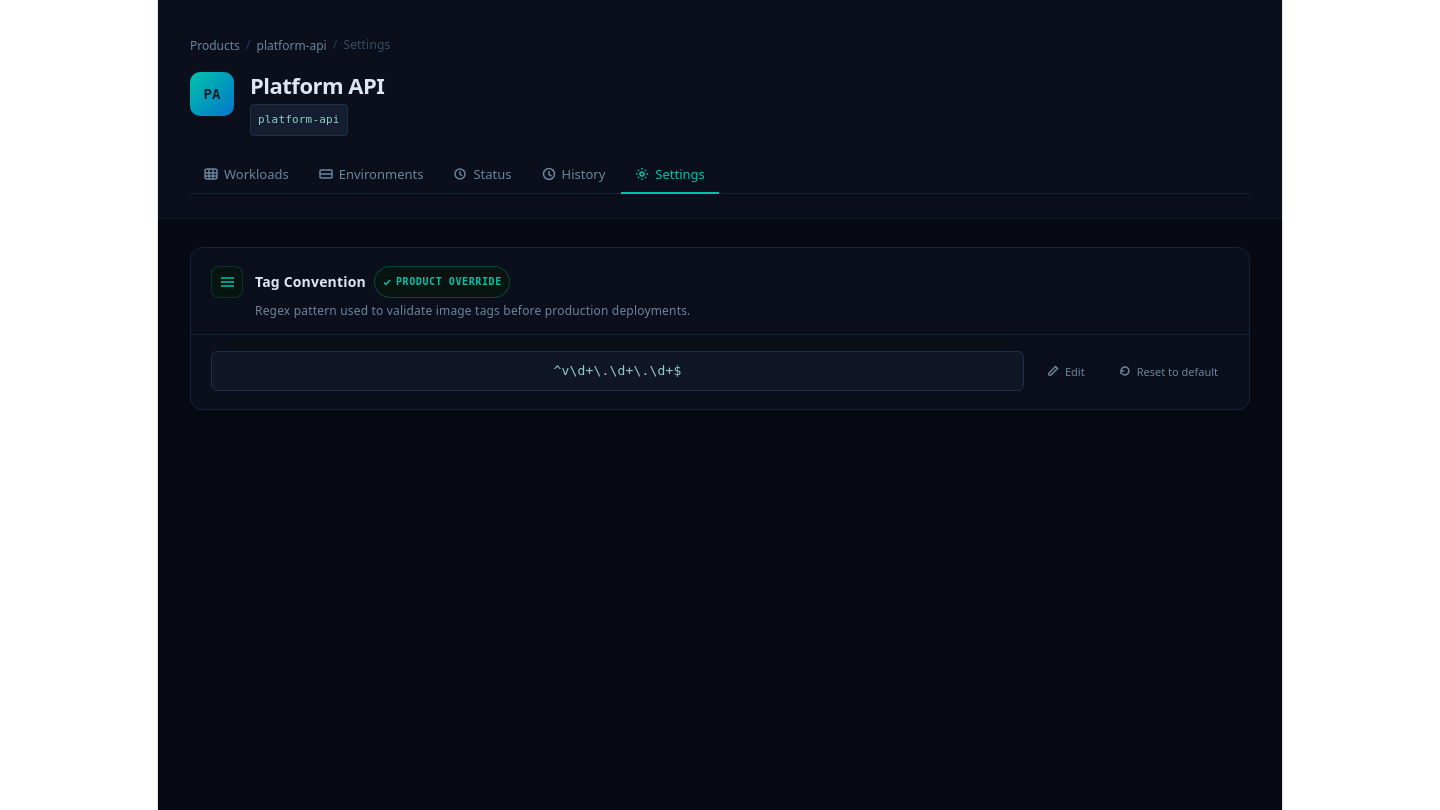
Test: ProductSettingsPage — save success › updates displayed value after successful save
Click the button "Edit" at (1066, 371), box [1036, 359, 1096, 384]
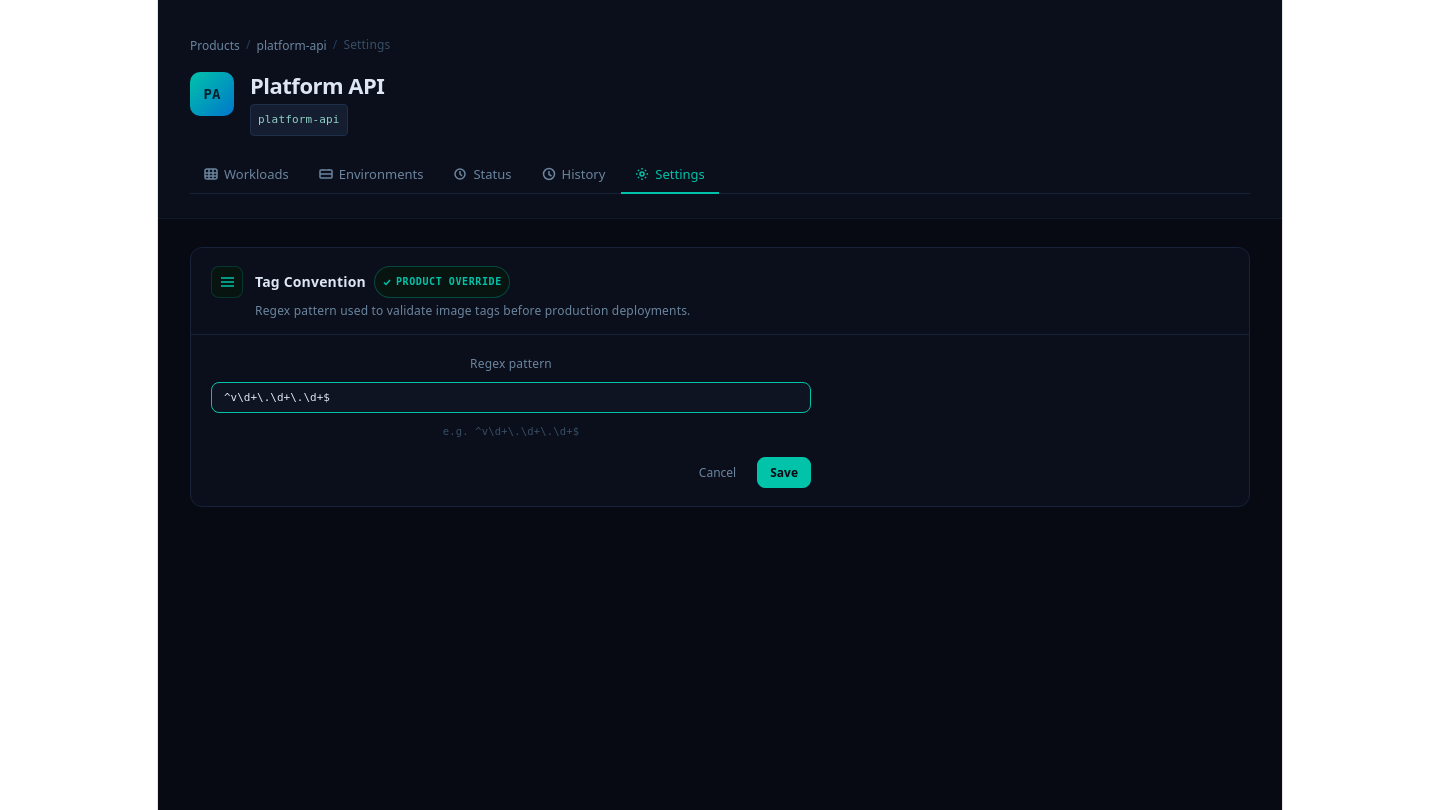
Replace the text in the field labelled "Regex pattern" with "^v\\d+$" at (511, 398), box [211, 382, 811, 414]
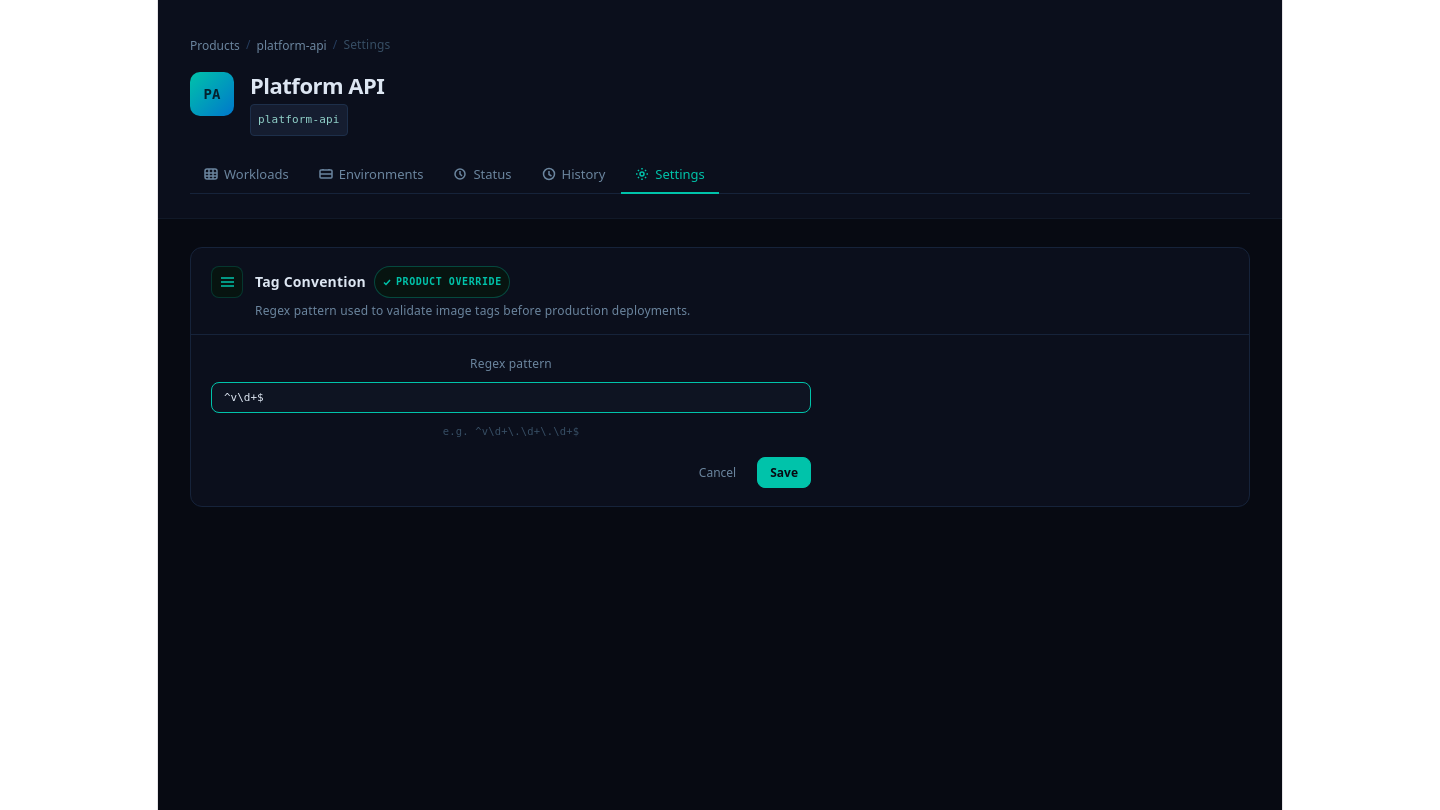
Click the button "Save" at (784, 472), box [757, 457, 811, 488]
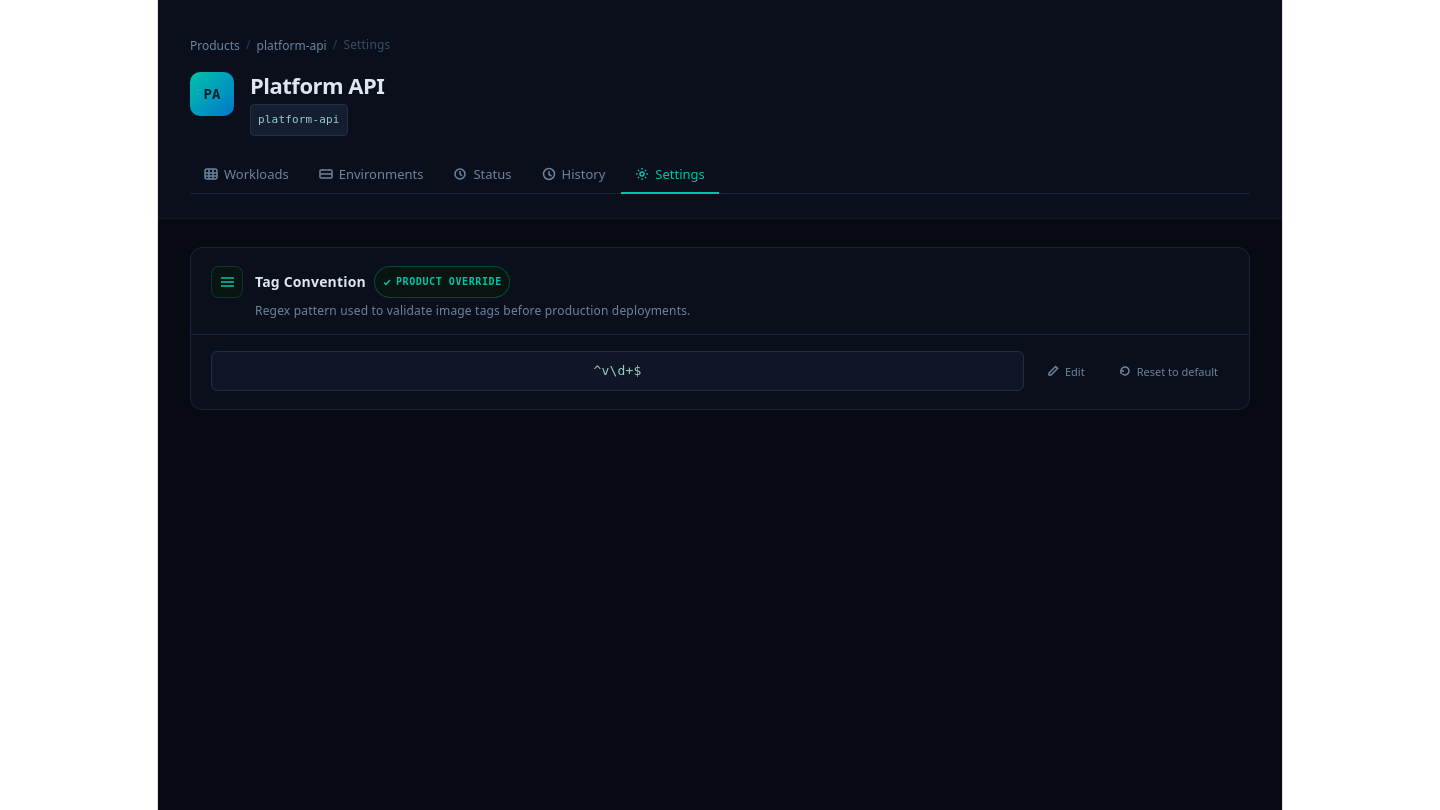
Check: the text "^v\\d+$" is shown, box [211, 351, 1024, 392]
